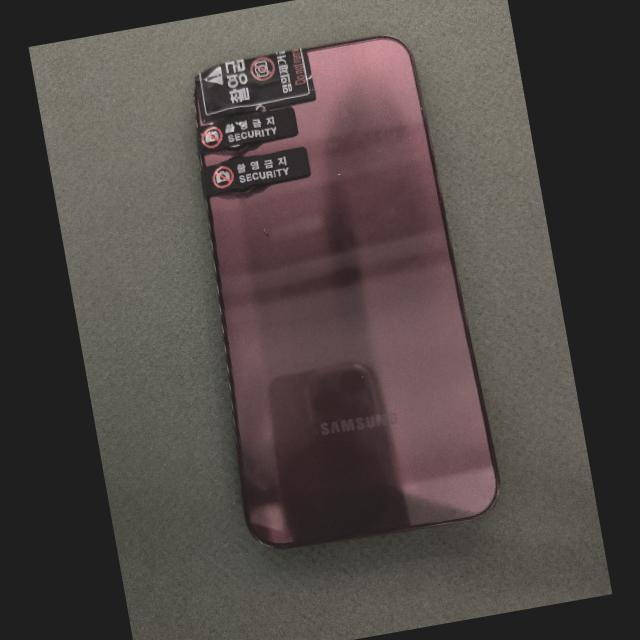phone: (194, 36, 498, 547)
sticker: (195, 47, 316, 121), (201, 148, 311, 196), (195, 107, 297, 154)
